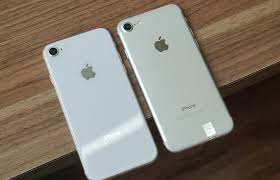iphone: (40, 23, 161, 180)
